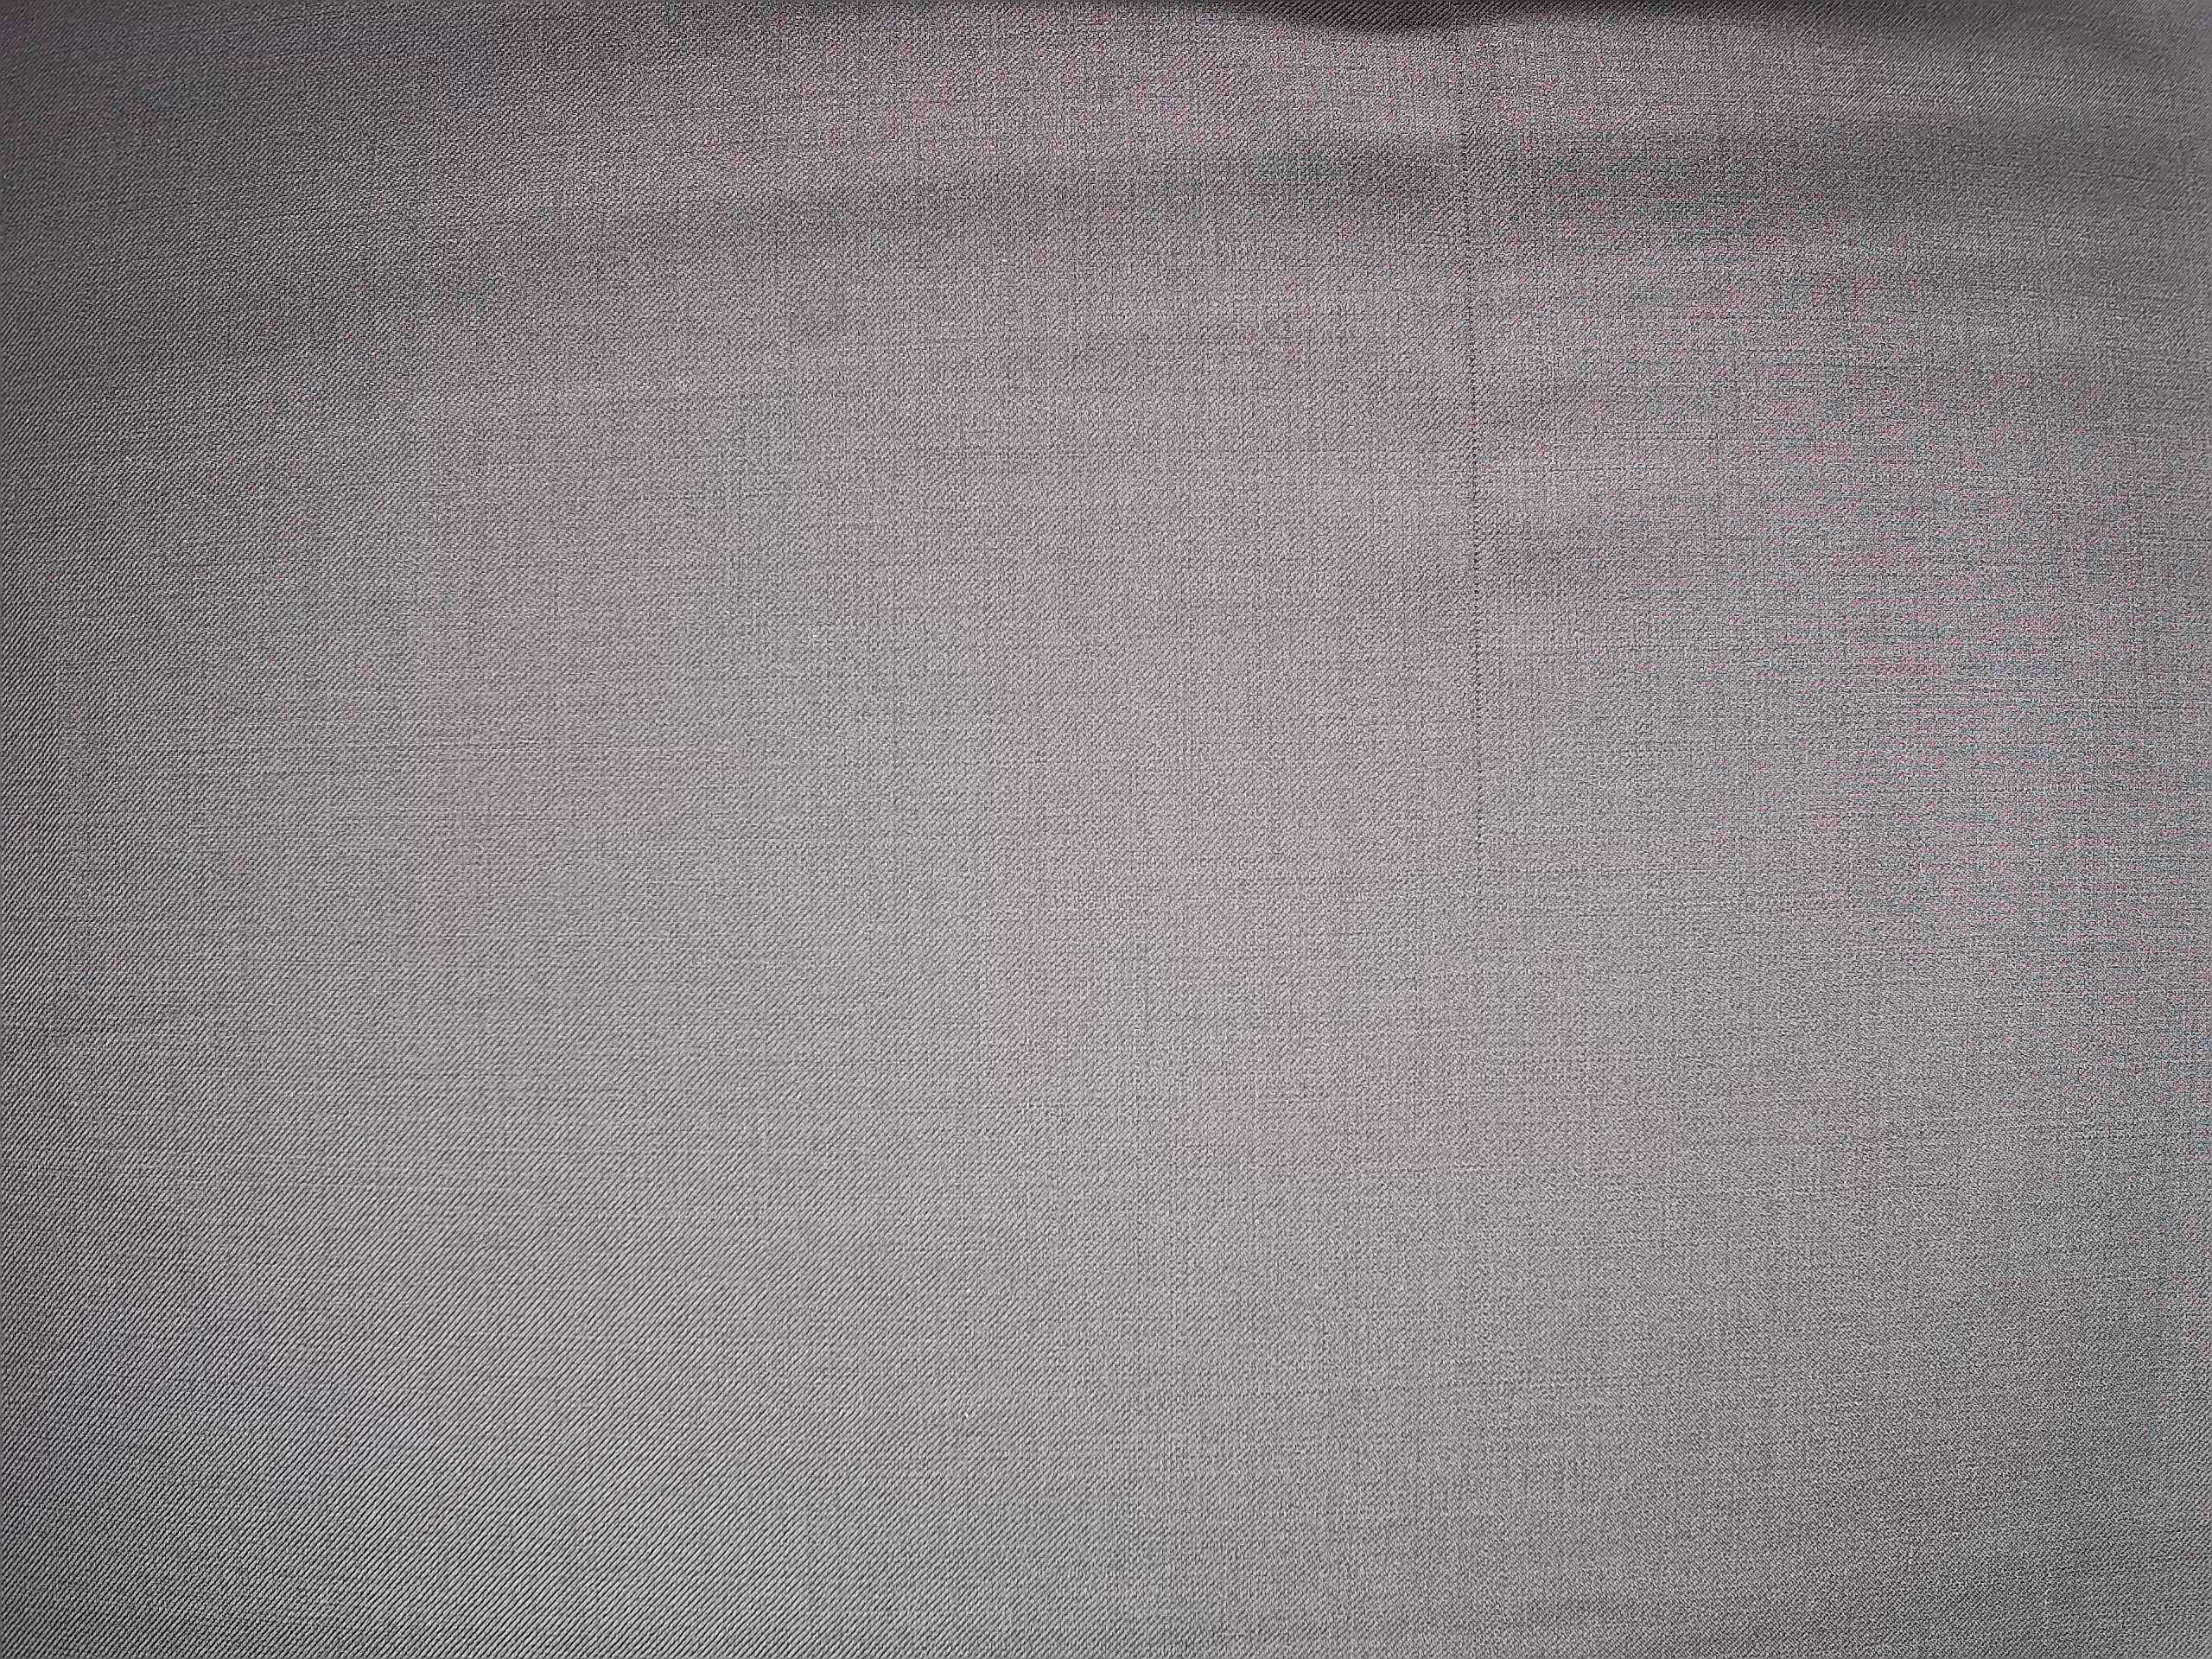hanging-warp: (1439, 17, 1498, 932)
